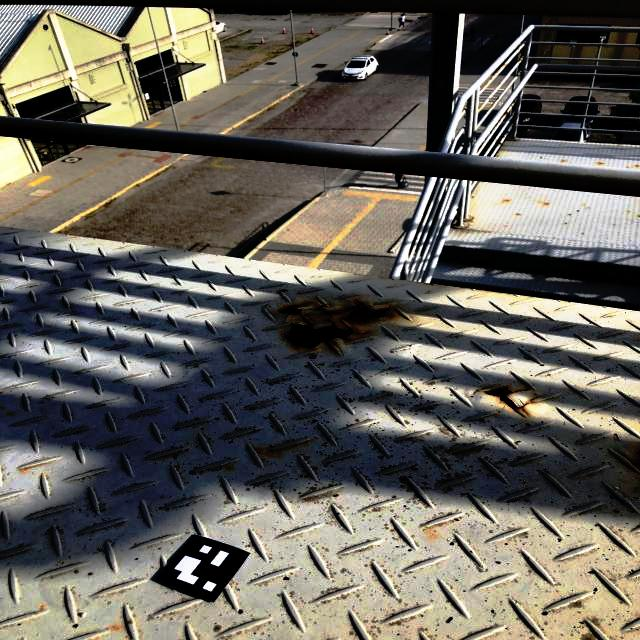Corrosion: (287, 324, 353, 348), (482, 387, 531, 410), (345, 306, 387, 322), (308, 305, 356, 316), (279, 307, 301, 315), (303, 316, 315, 326), (326, 316, 336, 326), (505, 111, 508, 116), (499, 142, 502, 145), (513, 101, 516, 103)
